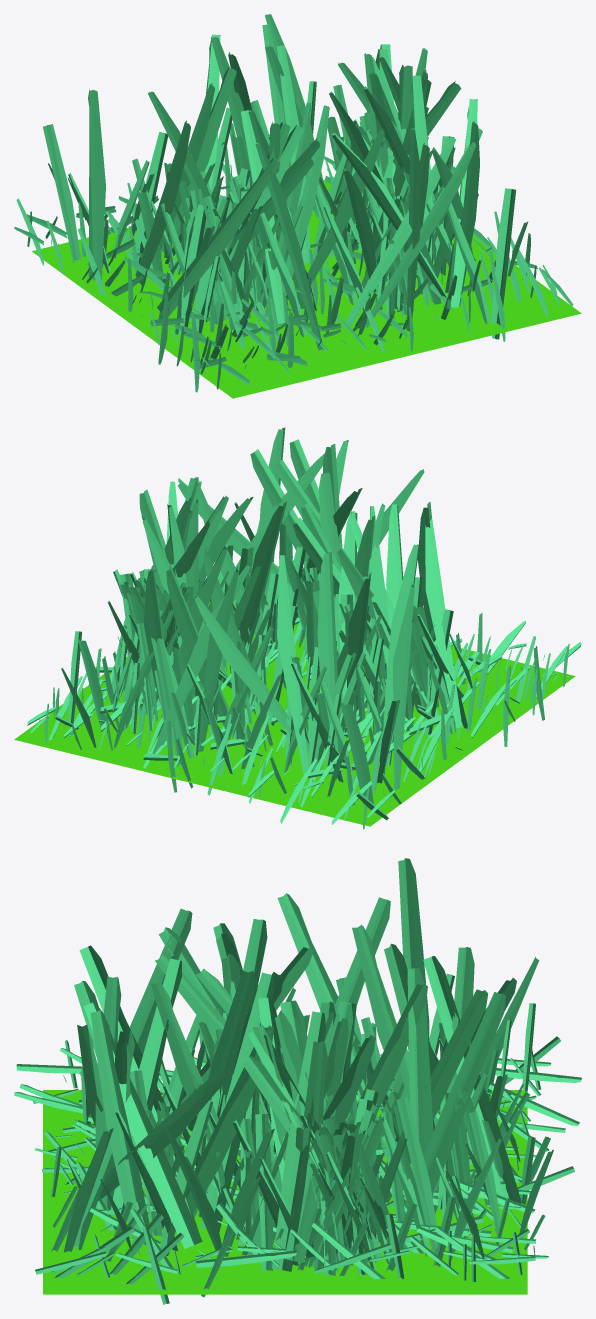
The model's file is 雑草FBX.fbx.
3 views of the same model, one above another, from view 1: azimuth 30°, elevation 25°; view 2: azimuth 150°, elevation 25°; view 3: azimuth 270°, elevation 25° (orthographic). The views are drawn at different scales.
Parts seen in each view (by area): view 1: 平面.002, 平面.002|平面.005|Dupli|39.2, 平面.002|平面.005|Dupli|33.2, 平面.002|平面.005|Dupli|16.2, 平面.002|平面.005|Dupli|14.2, 平面.002|平面.005|Dupli|32.2, 平面.002|平面.005|Dupli|6.2, 平面.002|平面.005|Dupli|47.2, 平面.002|平面.005|Dupli|36.2, 平面.002|平面.001|Dupli|144, 平面.002|平面.005|Dupli|7.2, 平面.002|平面.005|Dupli|13.2 (+42 smaller); view 2: 平面.002, 平面.002|平面.005|Dupli|40.2, 平面.002|平面.005|Dupli|17.2, 平面.002|平面.005|Dupli|39.2, 平面.002|平面.005|Dupli|33.2, 平面.002|平面.005|Dupli|30.2, 平面.002|平面.005|Dupli|38.2, 平面.002|平面.005|Dupli|0.2, 平面.002|平面.005|Dupli|18.2, 平面.002|平面.005|Dupli|32.2, 平面.002|平面.005|Dupli|43.2, 平面.002|平面.005|Dupli|11.2 (+50 smaller); view 3: 平面.002, 平面.002|平面.005|Dupli|2.2, 平面.002|平面.005|Dupli|3.2, 平面.002|平面.005|Dupli|20.2, 平面.002|平面.005|Dupli|1.2, 平面.002|平面.005|Dupli|18.2, 平面.002|平面.005|Dupli|4.2, 平面.002|平面.005|Dupli|37.2, 平面.002|平面.005|Dupli|43.2, 平面.002|平面.005|Dupli|15.2, 平面.002|平面.005|Dupli|38.2, 平面.002|平面.005|Dupli|47.2 (+60 smaller).
Part boxes in pixels (box(x1,y1,x2,y2)): 平面.002: box(32, 177, 581, 398); 平面.002|平面.005|Dupli|39.2: box(157, 158, 279, 316); 平面.002|平面.005|Dupli|33.2: box(88, 89, 105, 280); 平面.002|平面.005|Dupli|16.2: box(255, 143, 323, 350); 平面.002|平面.005|Dupli|14.2: box(365, 142, 476, 327); 平面.002|平面.005|Dupli|32.2: box(135, 120, 190, 285); 平面.002|平面.005|Dupli|6.2: box(342, 136, 456, 329); 平面.002|平面.005|Dupli|47.2: box(332, 133, 447, 298); 平面.002|平面.005|Dupli|36.2: box(281, 105, 329, 297); 平面.002|平面.001|Dupli|144: box(43, 124, 80, 262); 平面.002|平面.005|Dupli|7.2: box(241, 110, 284, 324); 平面.002|平面.005|Dupli|13.2: box(406, 128, 420, 331); 平面.002: box(14, 601, 575, 826); 平面.002|平面.005|Dupli|40.2: box(277, 554, 308, 774); 平面.002|平面.005|Dupli|17.2: box(317, 552, 341, 775); 平面.002|平面.005|Dupli|39.2: box(425, 518, 462, 728); 平面.002|平面.005|Dupli|33.2: box(393, 584, 414, 790); 平面.002|平面.005|Dupli|30.2: box(195, 593, 310, 753); 平面.002|平面.005|Dupli|38.2: box(240, 501, 286, 649); 平面.002|平面.005|Dupli|0.2: box(198, 567, 238, 752); 平面.002|平面.005|Dupli|18.2: box(152, 564, 250, 754); 平面.002|平面.005|Dupli|32.2: box(383, 544, 419, 765); 平面.002|平面.005|Dupli|43.2: box(166, 564, 228, 725); 平面.002|平面.005|Dupli|11.2: box(386, 504, 413, 723); 平面.002: box(43, 1090, 527, 1294); 平面.002|平面.005|Dupli|2.2: box(404, 992, 505, 1230); 平面.002|平面.005|Dupli|3.2: box(90, 1010, 151, 1245); 平面.002|平面.005|Dupli|20.2: box(272, 1011, 326, 1271); 平面.002|平面.005|Dupli|1.2: box(83, 1001, 202, 1248); 平面.002|平面.005|Dupli|18.2: box(423, 956, 521, 1205); 平面.002|平面.005|Dupli|4.2: box(407, 968, 433, 1230); 平面.002|平面.005|Dupli|37.2: box(186, 1025, 273, 1213); 平面.002|平面.005|Dupli|43.2: box(379, 989, 488, 1202); 平面.002|平面.005|Dupli|15.2: box(98, 1070, 226, 1200); 平面.002|平面.005|Dupli|38.2: box(200, 972, 273, 1232); 平面.002|平面.005|Dupli|47.2: box(110, 958, 181, 1215).
Bounding box in the file's own units: 204 × 119 × 234.
